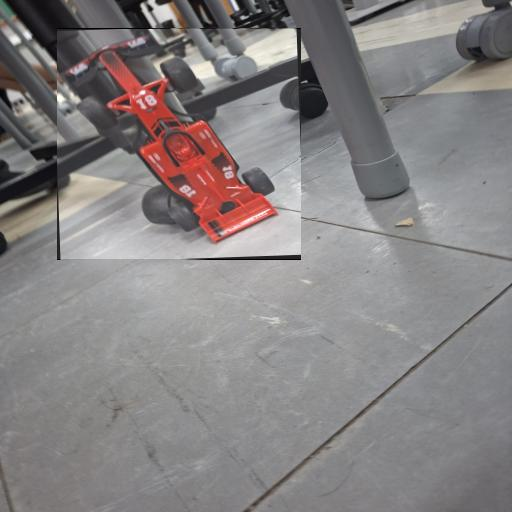carro: (57, 29, 301, 259)
